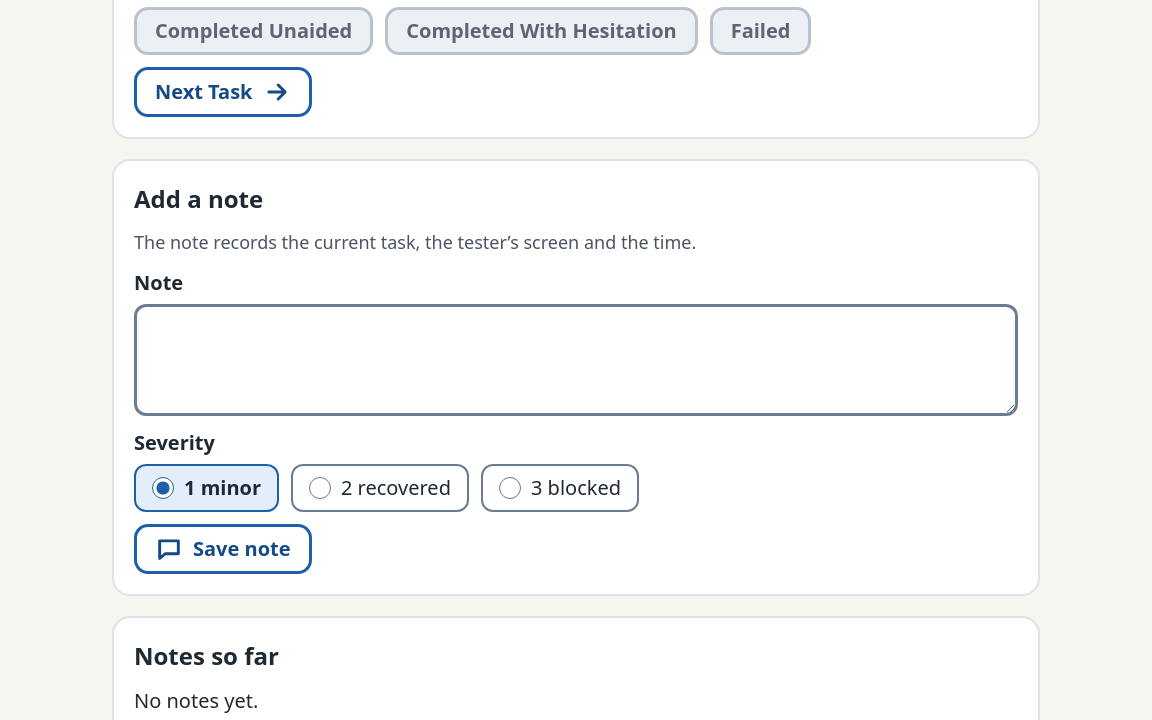
Test: FacilitatorScreen: actions › sends ADD_NOTE with the text and the chosen severity
The width and height of the screenshot is (1152, 720).
(page scrolled)
Type "Could not find Play" into the text box labelled "Note" at (576, 360), box [134,304,1018,416]
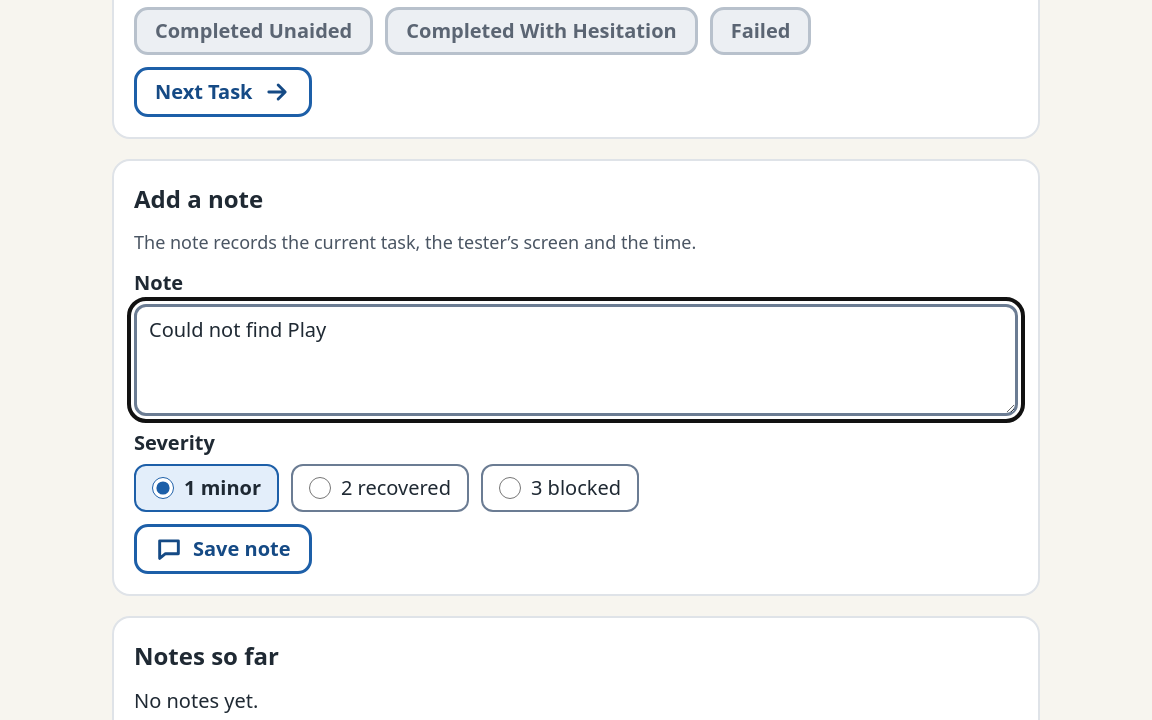
Click the radio button labelled "3 blocked" at (510, 488), box [499,477,521,499]
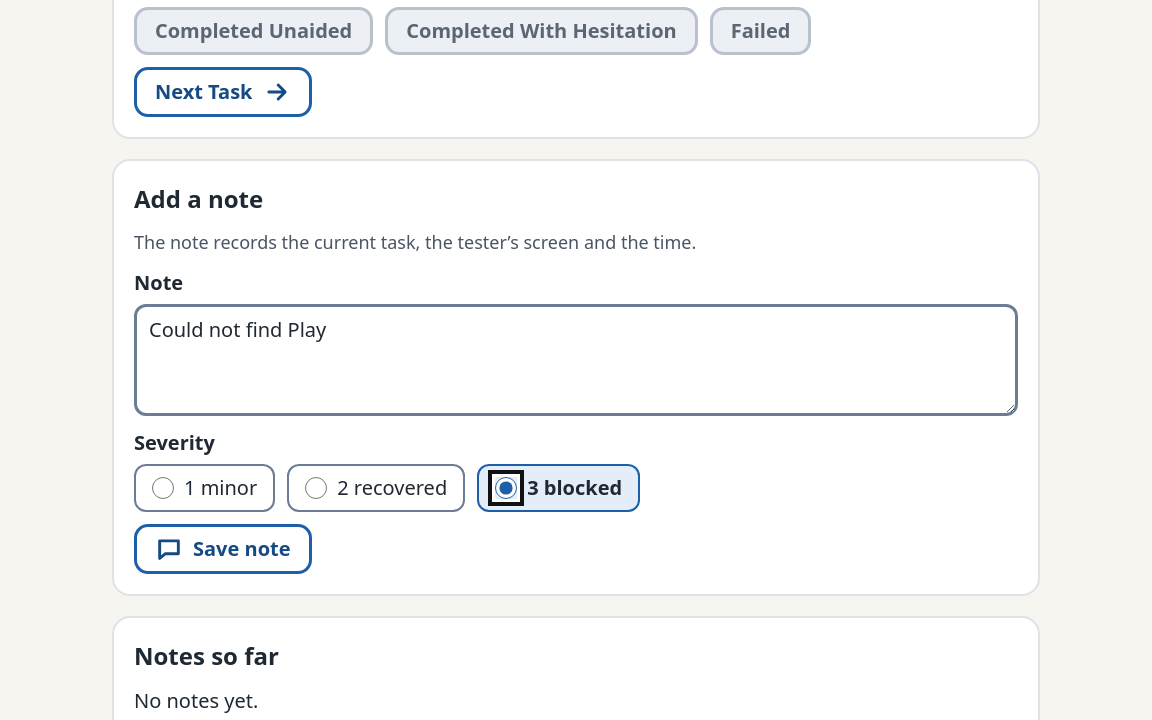
Click the button "Save note" at (223, 549), box [134,524,312,574]
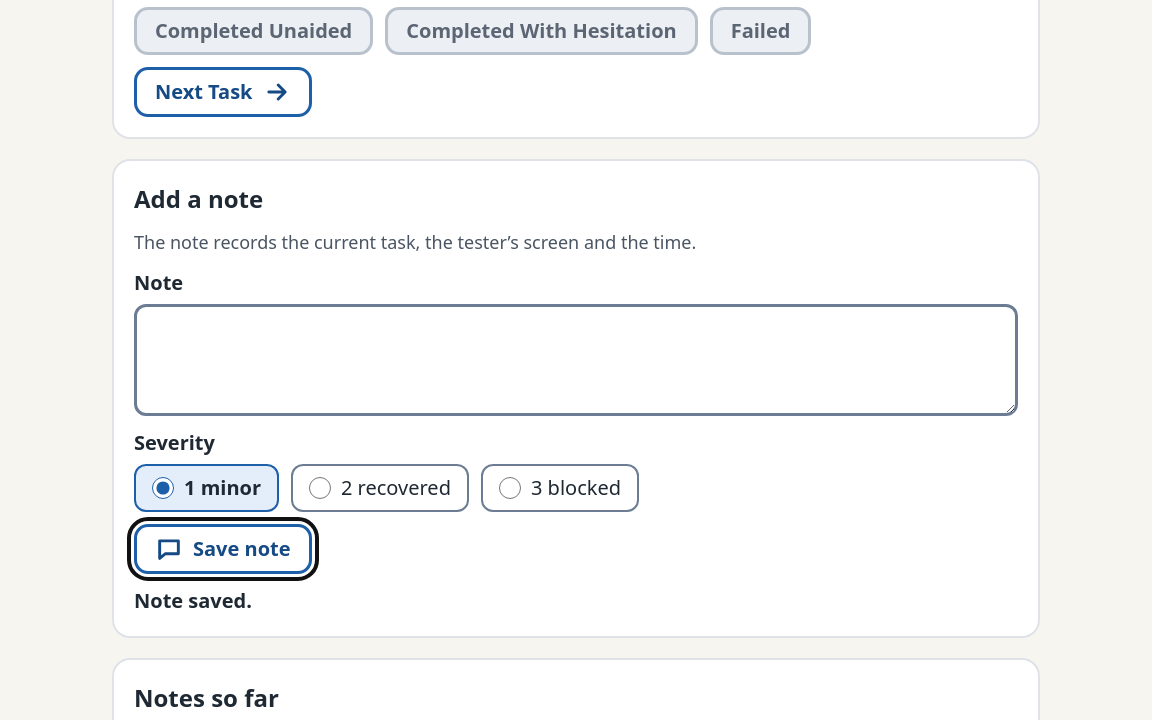
Expected: the text "Note saved." is shown, [134,587,252,614]
Expected: the text box labelled "Note" is empty, [134,304,1018,416]
